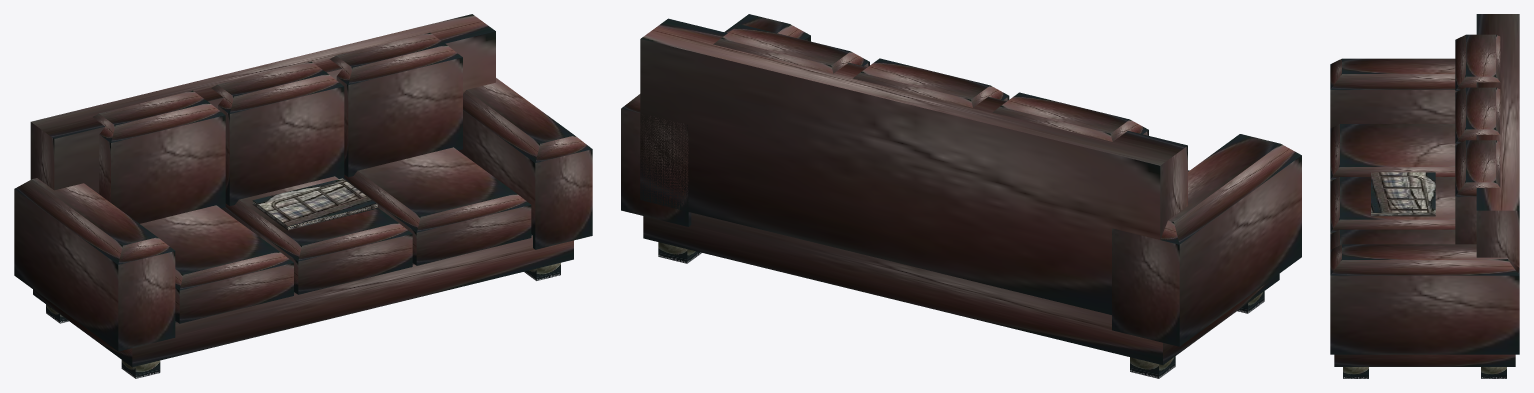
The model's file is sf_pro_dorm_lounge_set.glb.
3 renders of one model, left to right at view 1: azimuth 30°, elevation 25°; view 2: azimuth 150°, elevation 25°; view 3: azimuth 270°, elevation 25°, orthographic. The views are drawn at different scales.
Visible parts, largest first — view 1: ProDormVintageLeatherSofa_Root, ProDormVintageLeatherSofa_AnimPart; view 2: ProDormVintageLeatherSofa_Root; view 3: ProDormVintageLeatherSofa_Root, ProDormVintageLeatherSofa_AnimPart.
Part boxes in pixels (box(x1,y1,x2,y2)): ProDormVintageLeatherSofa_Root: box(14, 14, 592, 378); ProDormVintageLeatherSofa_AnimPart: box(252, 178, 377, 230); ProDormVintageLeatherSofa_Root: box(621, 14, 1301, 378); ProDormVintageLeatherSofa_Root: box(1330, 14, 1519, 378); ProDormVintageLeatherSofa_AnimPart: box(1371, 172, 1435, 216).
Size of the model in its own units: 2.32 by 0.9 by 0.88.
Materials: 1 (1 with a texture image).
